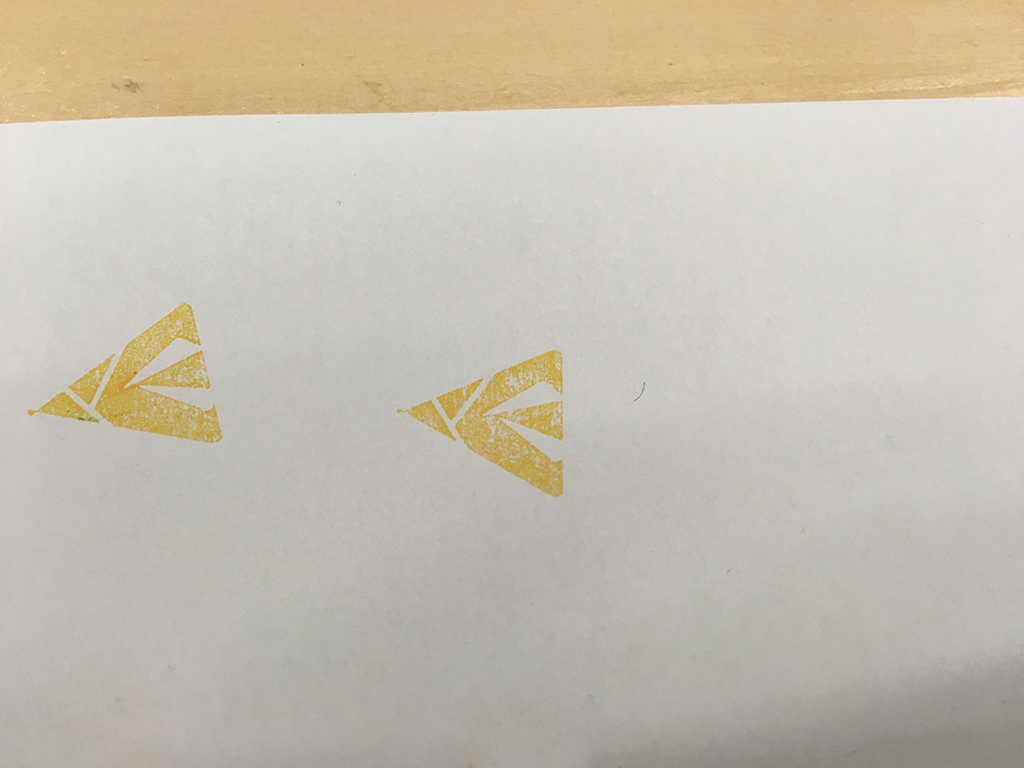tent: (22, 292, 237, 450), (386, 338, 577, 506)
